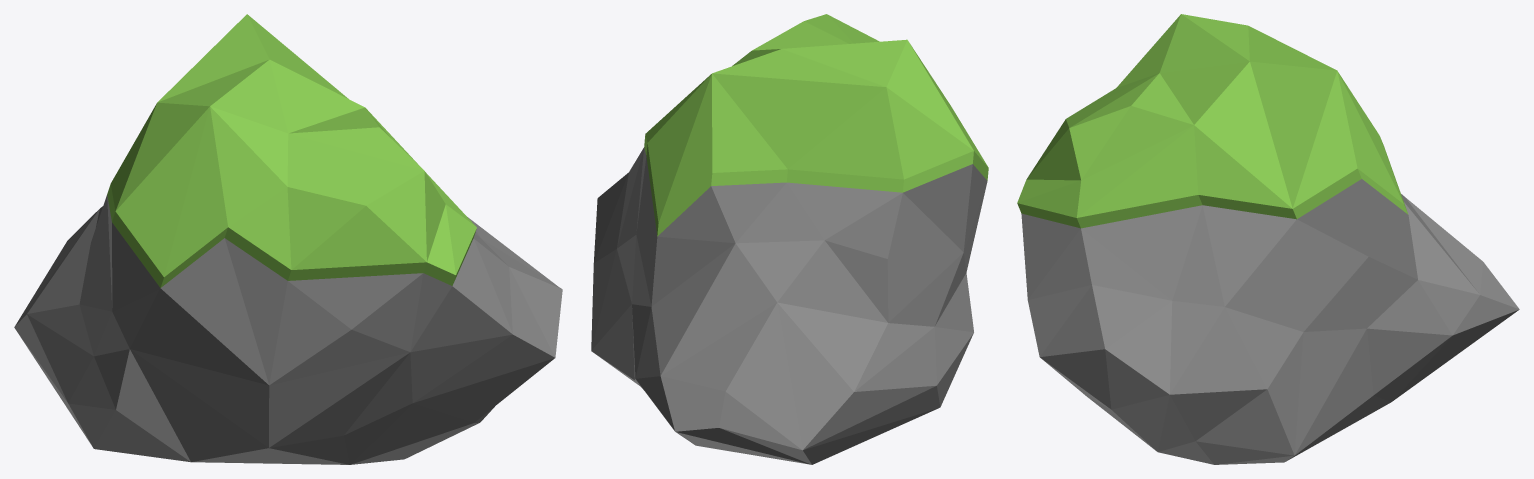
The model's file is rock01_top_grass.fbx.
3 views of the same model, side by side, from view 1: azimuth 30°, elevation 25°; view 2: azimuth 150°, elevation 25°; view 3: azimuth 270°, elevation 25° (orthographic). The views are drawn at different scales.
Parts seen in each view (by area): view 1: rock01_top_grass_LOD0; view 2: rock01_top_grass_LOD0; view 3: rock01_top_grass_LOD0.
Boxes of the visible parts, left/top/right/bottom form: rock01_top_grass_LOD0: left=14, top=14, right=562, bottom=464; rock01_top_grass_LOD0: left=591, top=14, right=988, bottom=464; rock01_top_grass_LOD0: left=1017, top=14, right=1519, bottom=464.
Size of what is drawn, in the model's own units: 159 by 140 by 182.
